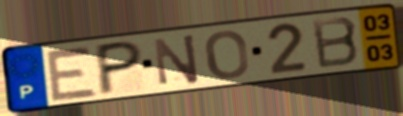2: (267, 20, 312, 77)
B: (309, 15, 362, 71)
E: (43, 45, 100, 103)
N: (151, 32, 202, 88)
O: (202, 29, 251, 82)
P: (96, 38, 146, 98)
